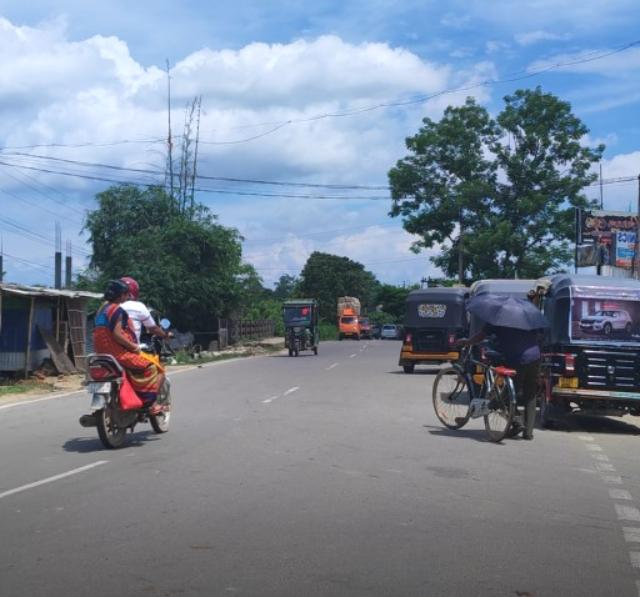licensePlate: (87, 383, 110, 396)
motorcycle: (79, 275, 173, 453)
withHelmet: (123, 277, 139, 304)
withoutHelmet: (104, 280, 127, 306)
